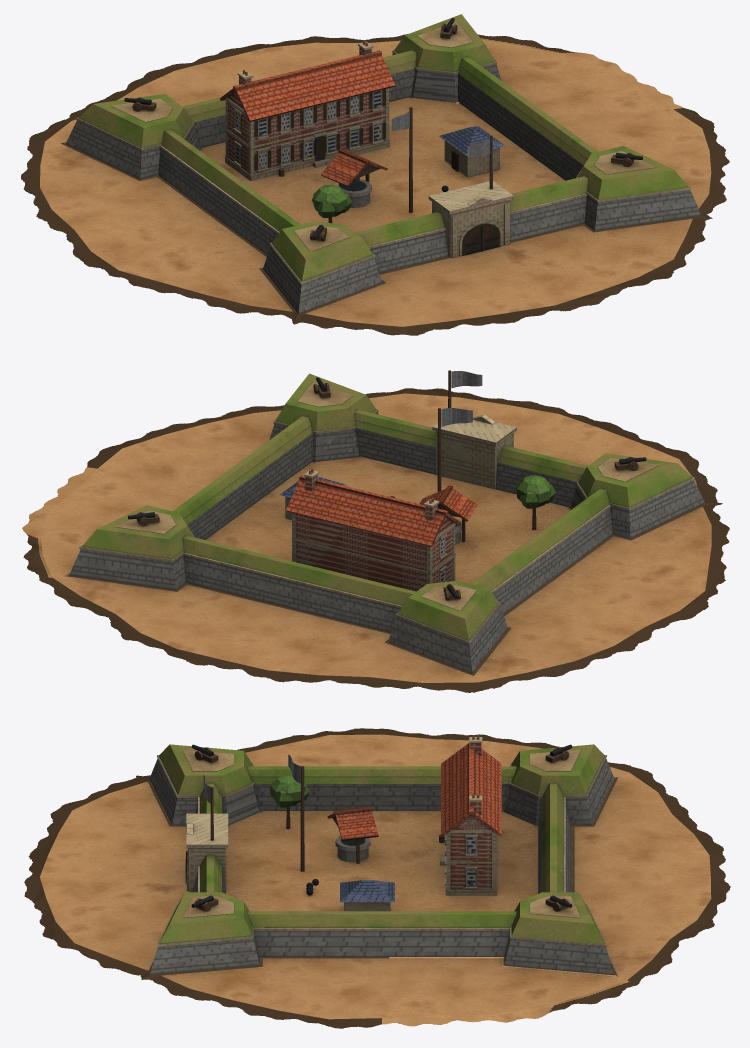
Rendered from fort-gunpowder.glb.
3 views of the same model, one above another, from view 1: azimuth 30°, elevation 25°; view 2: azimuth 150°, elevation 25°; view 3: azimuth 270°, elevation 25° (orthographic).
Parts seen in each view (by area): view 1: LOD0; view 2: LOD0; view 3: LOD0.
Boxes of the visible parts, x1,y1,x2,y2 form: LOD0: (21,14,729,335); LOD0: (22,370,729,692); LOD0: (24,728,730,1028).
Size of what is drawn, in the model's own units: 5.02 by 0.8299 by 5.
Materials: 3 (3 with a texture image).
